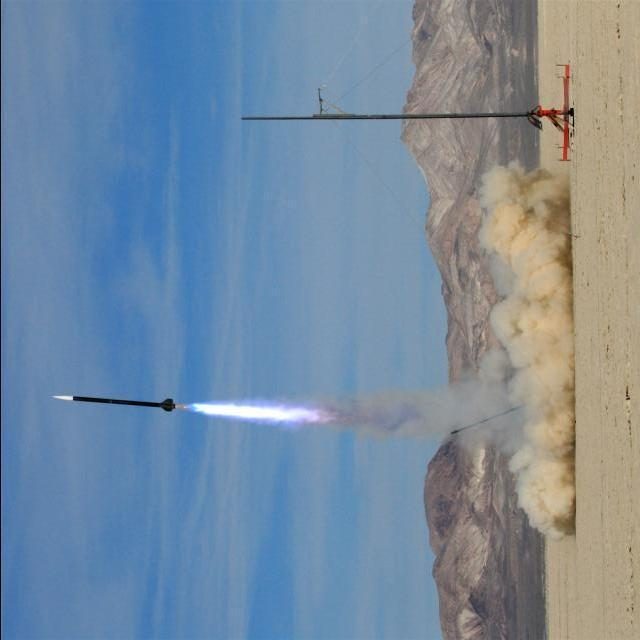missile: (54, 381, 199, 426)
